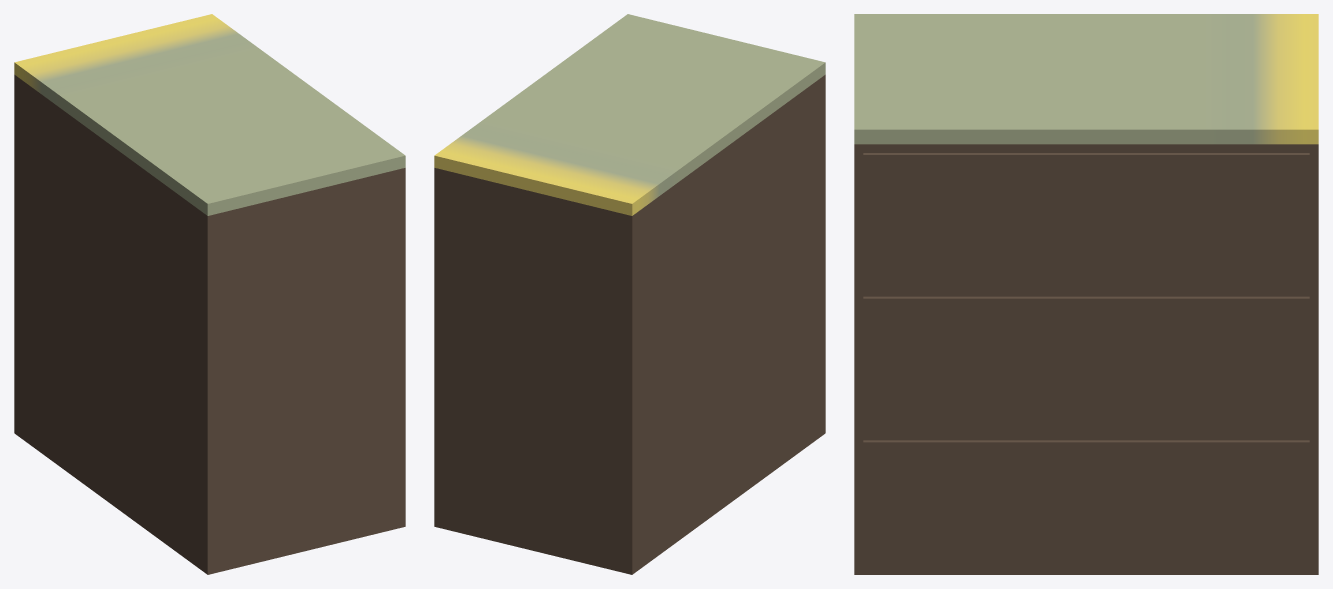
The model's file is Kitchen_2_Cabinet_4.fbx.
3 views of the same model, side by side, from view 1: azimuth 30°, elevation 25°; view 2: azimuth 150°, elevation 25°; view 3: azimuth 270°, elevation 25° (orthographic). The views are drawn at different scales.
Visible parts, largest first — view 1: Kitchen_2_Cabinet_4; view 2: Kitchen_2_Cabinet_4; view 3: Kitchen_2_Cabinet_4.
Boxes of the visible parts, x1,y1,x2,y2 form: Kitchen_2_Cabinet_4: (14,14,405,574); Kitchen_2_Cabinet_4: (434,14,825,574); Kitchen_2_Cabinet_4: (854,14,1318,574).
Bounding box in the file's own units: 73.33 × 129 × 122.
